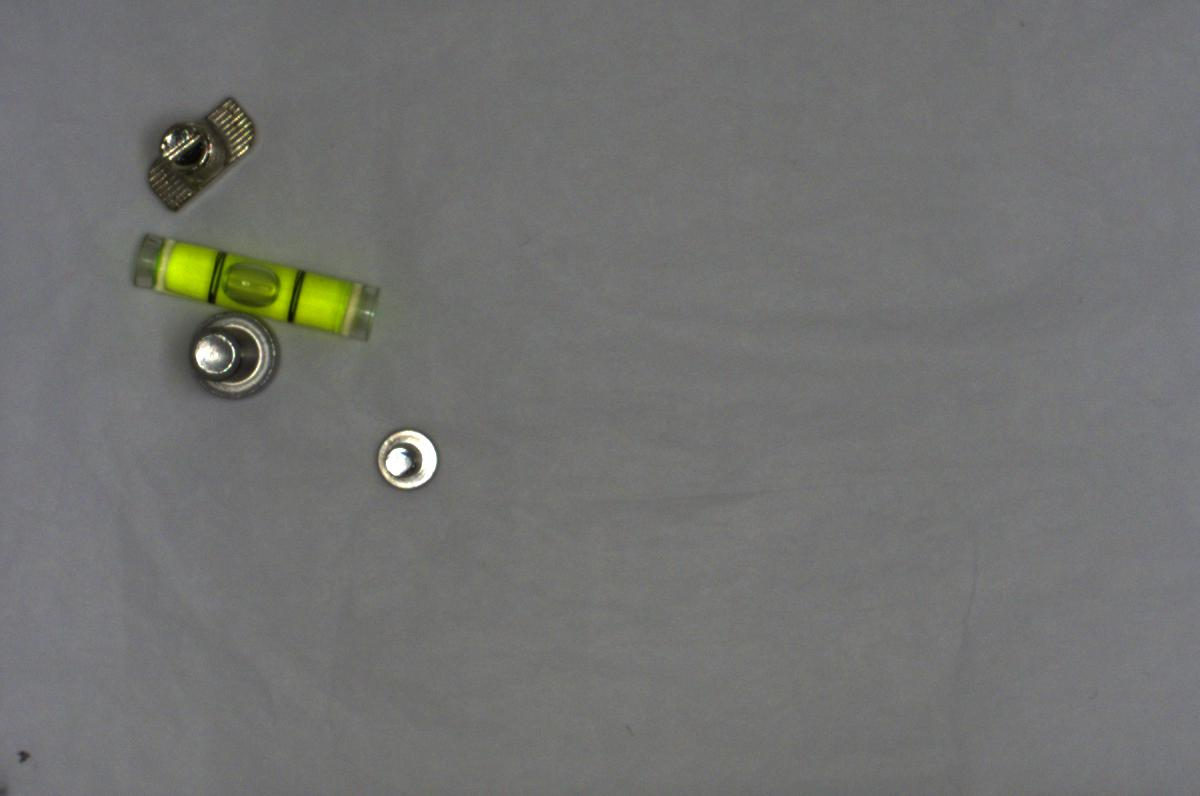Hexagon screw: (180, 308, 286, 390)
Horizontal bubble: (121, 227, 387, 349)
Round head screw: (372, 421, 446, 492)
T-shaped screw: (141, 93, 261, 216)
